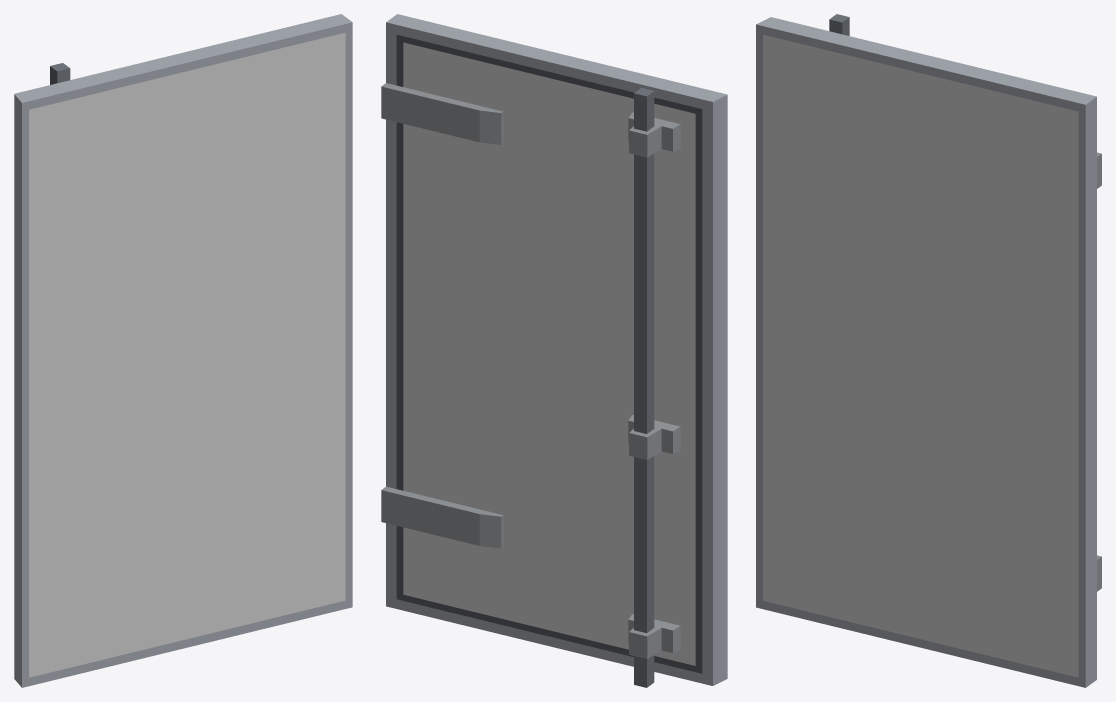
File: SM_Veh_Truck_Attachment_Delivery_Door_L.obj
3 renders of one model, left to right at view 1: azimuth 30°, elevation 25°; view 2: azimuth 150°, elevation 25°; view 3: azimuth 330°, elevation 25°, orthographic.
Visible parts, largest first — view 1: SM_Veh_Truck_Attachment_Delivery_Door_L_0; view 2: SM_Veh_Truck_Attachment_Delivery_Door_L_0; view 3: SM_Veh_Truck_Attachment_Delivery_Door_L_0.
Part boxes in pixels (left/top/right/bottom): SM_Veh_Truck_Attachment_Delivery_Door_L_0: left=14, top=14, right=352, bottom=687; SM_Veh_Truck_Attachment_Delivery_Door_L_0: left=381, top=14, right=727, bottom=687; SM_Veh_Truck_Attachment_Delivery_Door_L_0: left=756, top=14, right=1101, bottom=687.
Size of the model in its own units: 1.14 by 1.96 by 0.1781.
1 material, 1 textured.
